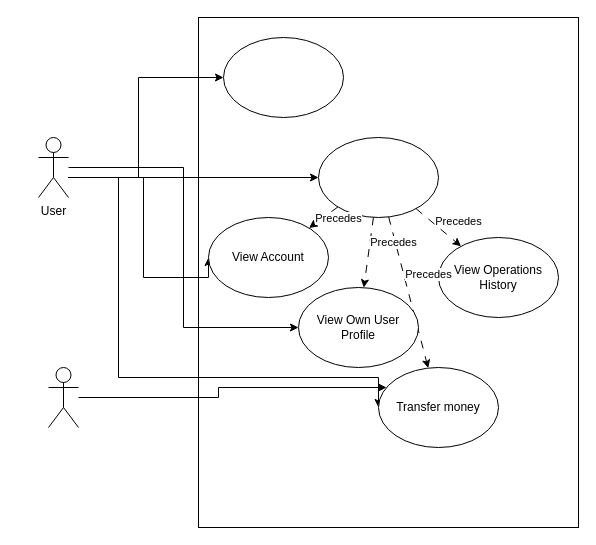
Some shapes in this 596 by 545 pixel diagram are drawn without their labels. The box of each missing label's shape, as (x1, y1, x2, y2) in pixels:
3rd Party System: (48, 366, 78, 428)
Login: (318, 136, 438, 218)
Register: (222, 36, 344, 118)
